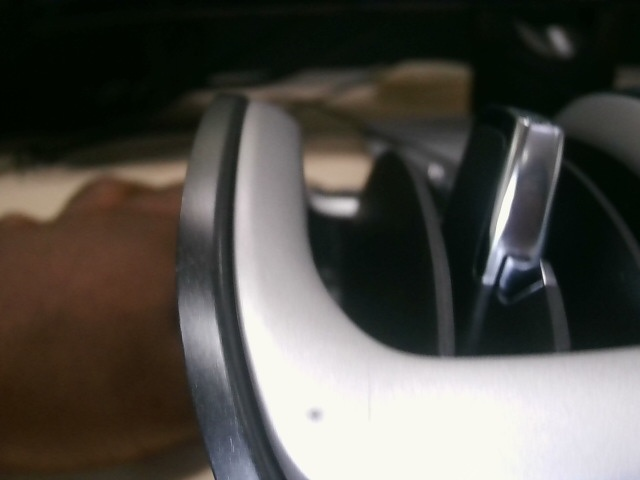NG: (175, 246, 213, 304), (361, 376, 382, 424)
